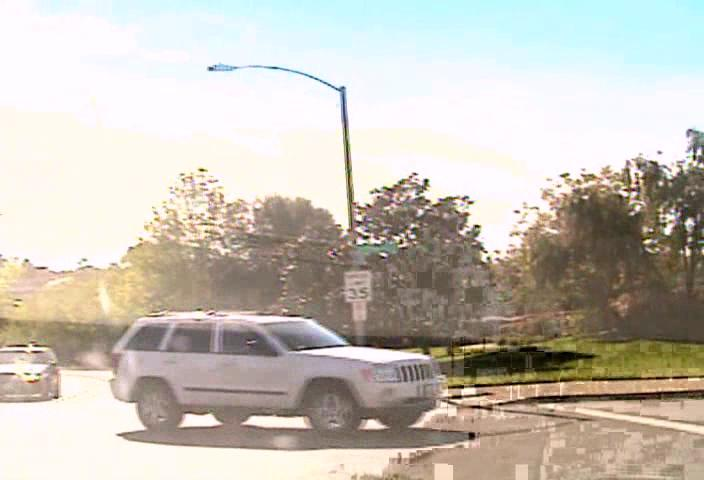speedLimit35: (342, 268, 372, 304)
